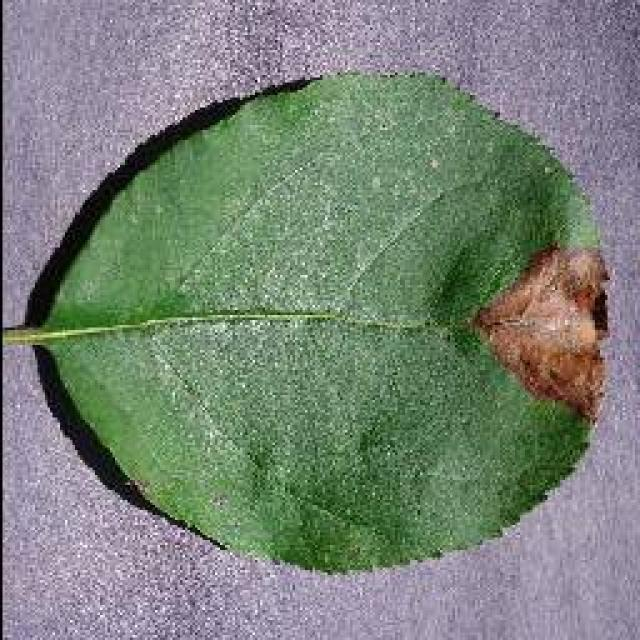apple black rot: (20, 65, 612, 575)
